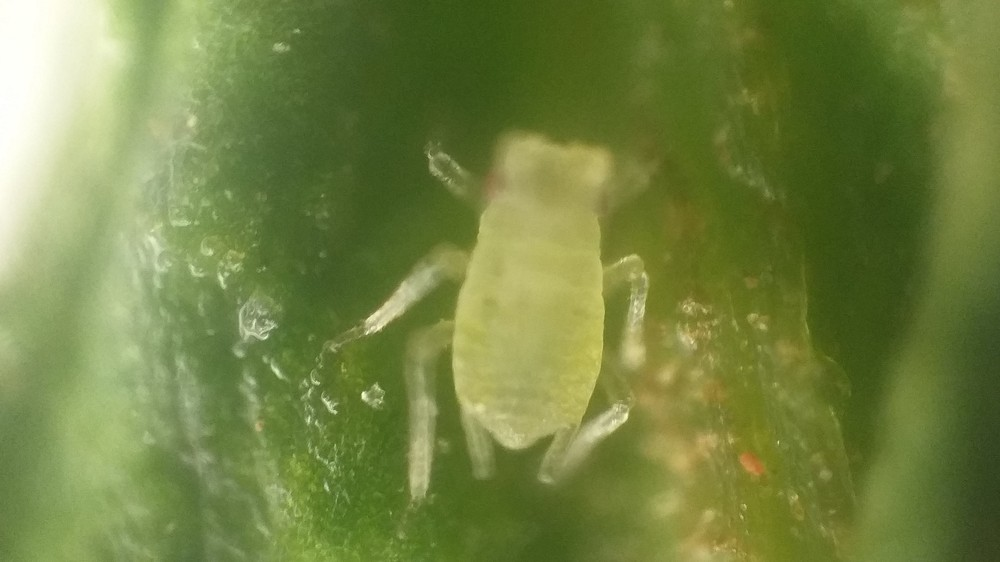Pulgon: (338, 97, 710, 537)
